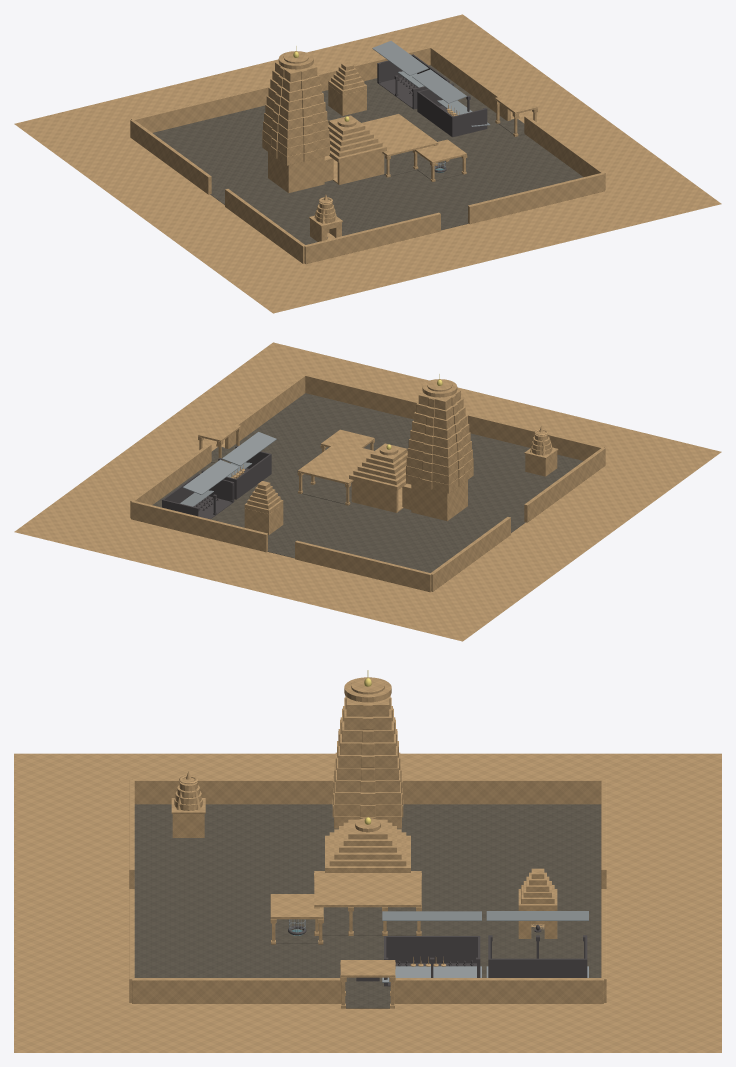
The model's file is jajpur_biraja_kshetra_full.glb.
3 renders of one model, top to bottom at view 1: azimuth 30°, elevation 25°; view 2: azimuth 150°, elevation 25°; view 3: azimuth 270°, elevation 25°, orthographic. The views are drawn at different scales.
Visible parts, largest first — view 1: Ground_Main, Biraja_Courtyard_Paving, Mandapa, Biraja_Prakar_S_R, Biraja_Prakar_S_L, Biraja_Prakar_N_L, Chandi_Mandapa_Roof, Biraja_Prakar_W_R, Biraja_Prakar_W_L, Garbhagriha, Biraja_Prakar_E_R, Biraja_Prakar_E_L (+15 smaller); view 2: Ground_Main, Biraja_Courtyard_Paving, Mandapa, Biraja_Prakar_N_R, Biraja_Prakar_N_L, Biraja_Prakar_S_R, Biraja_Prakar_S_L, Chandi_Mandapa_Roof, Biraja_Prakar_W_L, Biraja_Prakar_W_R, Garbhagriha, Biraja_Prakar_E_L (+12 smaller); view 3: Ground_Main, Biraja_Courtyard_Paving, Biraja_Prakar_E_L, Biraja_Prakar_E_R, Biraja_Prakar_W_R, Biraja_Prakar_W_L, Mandapa, Chandi_Mandapa_Roof, Sahasralinga_II_Rear_Wall, Chandi_Mandapa_Floor, Sahasralinga_I_Rear_Wall, Nabhigaya_Pavilion_Roof (+21 smaller).
Part boxes in pixels (left/top/right/bottom): Ground_Main: left=14, top=14, right=721, bottom=313; Biraja_Courtyard_Paving: left=152, top=65, right=583, bottom=244; Mandapa: left=328, top=115, right=386, bottom=184; Biraja_Prakar_S_R: left=468, top=173, right=604, bottom=224; Biraja_Prakar_S_L: left=304, top=212, right=440, bottom=264; Biraja_Prakar_N_L: left=131, top=86, right=267, bottom=132; Chandi_Mandapa_Roof: left=362, top=114, right=438, bottom=156; Biraja_Prakar_W_R: left=130, top=120, right=211, bottom=194; Biraja_Prakar_W_L: left=225, top=189, right=304, bottom=263; Garbhagriha: left=268, top=152, right=324, bottom=193; Biraja_Prakar_E_R: left=430, top=46, right=510, bottom=120; Biraja_Prakar_E_L: left=524, top=115, right=605, bottom=190; Ground_Main: left=14, top=342, right=721, bottom=641; Biraja_Courtyard_Paving: left=152, top=393, right=583, bottom=572; Mandapa: left=349, top=443, right=407, bottom=512; Biraja_Prakar_N_R: left=131, top=501, right=267, bottom=552; Biraja_Prakar_N_L: left=295, top=540, right=431, bottom=592; Biraja_Prakar_S_R: left=305, top=374, right=418, bottom=419; Biraja_Prakar_S_L: left=468, top=414, right=604, bottom=460; Chandi_Mandapa_Roof: left=297, top=442, right=373, bottom=484; Biraja_Prakar_W_L: left=524, top=448, right=605, bottom=522; Biraja_Prakar_W_R: left=430, top=517, right=510, bottom=591; Garbhagriha: left=411, top=480, right=467, bottom=521; Biraja_Prakar_E_L: left=225, top=374, right=305, bottom=448; Ground_Main: left=14, top=753, right=721, bottom=1052; Biraja_Courtyard_Paving: left=134, top=804, right=601, bottom=994; Biraja_Prakar_E_L: left=132, top=978, right=345, bottom=1003; Biraja_Prakar_E_R: left=390, top=978, right=603, bottom=1003; Biraja_Prakar_W_R: left=402, top=778, right=603, bottom=804; Biraja_Prakar_W_L: left=132, top=778, right=333, bottom=804; Mandapa: left=325, top=817, right=410, bottom=872; Chandi_Mandapa_Roof: left=314, top=871, right=421, bottom=907; Sahasralinga_II_Rear_Wall: left=384, top=936, right=477, bottom=963; Chandi_Mandapa_Floor: left=322, top=907, right=417, bottom=935; Sahasralinga_I_Rear_Wall: left=488, top=958, right=586, bottom=977; Nabhigaya_Pavilion_Roof: left=270, top=894, right=323, bottom=919.
Bounding box in the file's own units: 75 × 21.66 × 75.
Materials: 14 (2 with a texture image).
